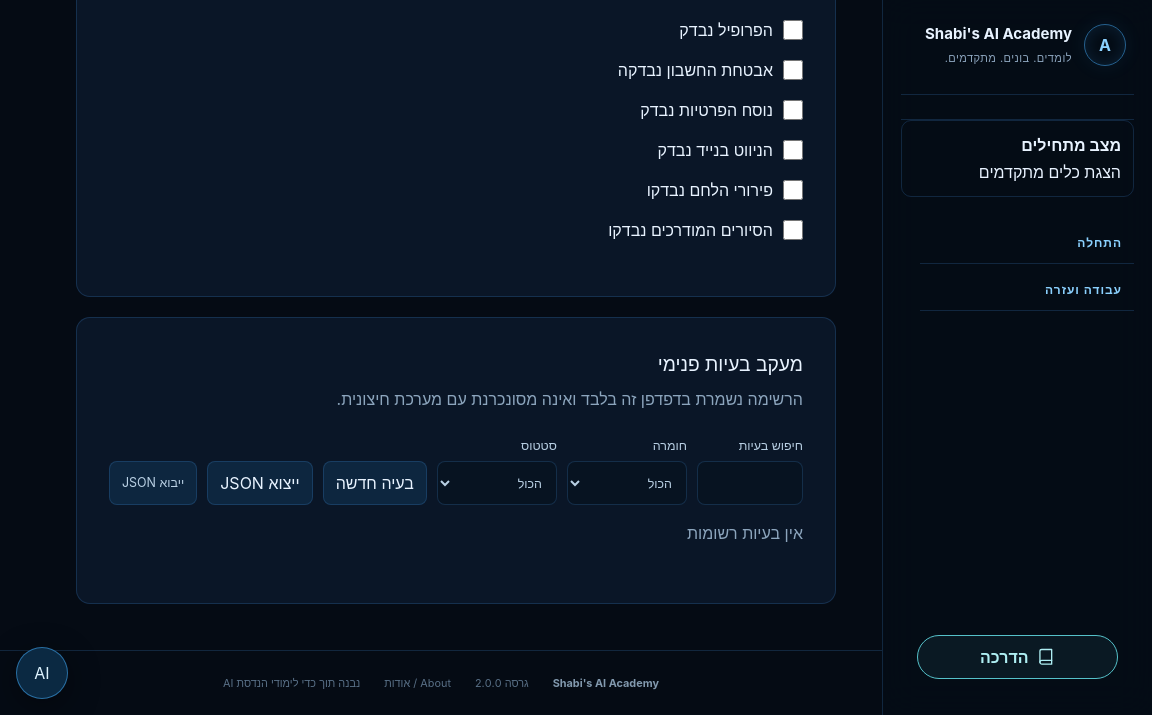
QA Center — internal issue register › requires a title and owner before saving an issue
The width and height of the screenshot is (1152, 715).
(page scrolled)
Step 1. Click the button "בעיה חדשה" → (375, 483), box [323,461,427,505]
(page scrolled)
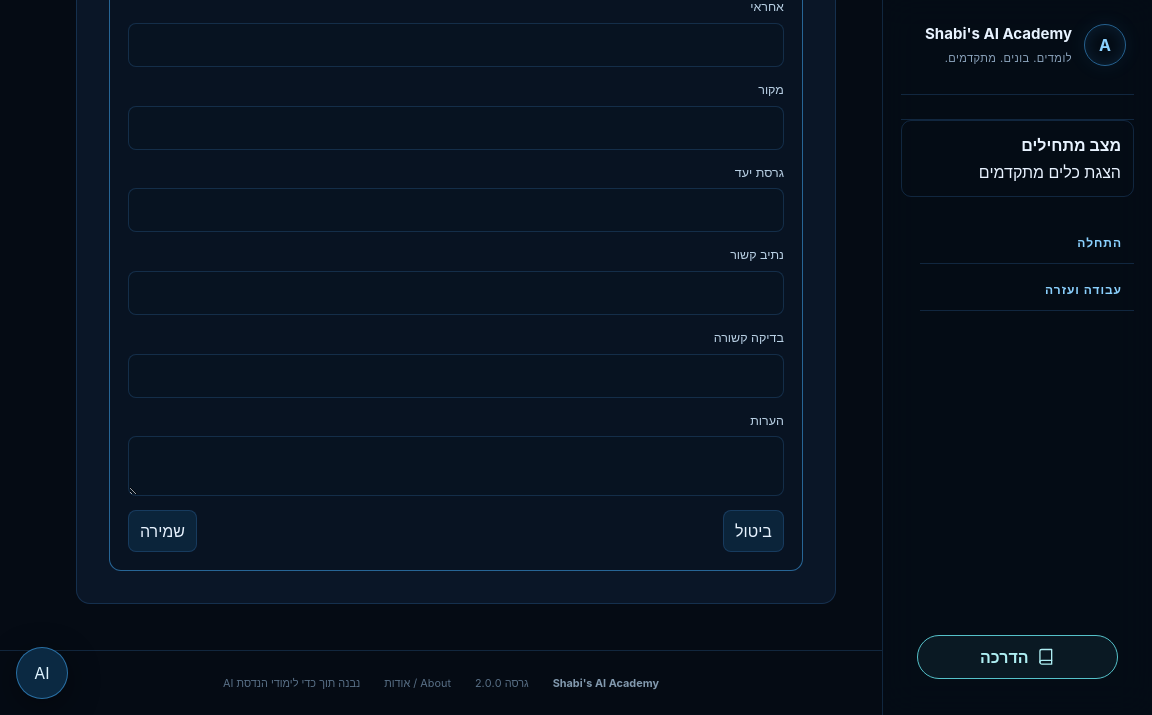
Step 2. Click the button "שמירה" → (162, 531), box [128,510,197,552]
(page scrolled)
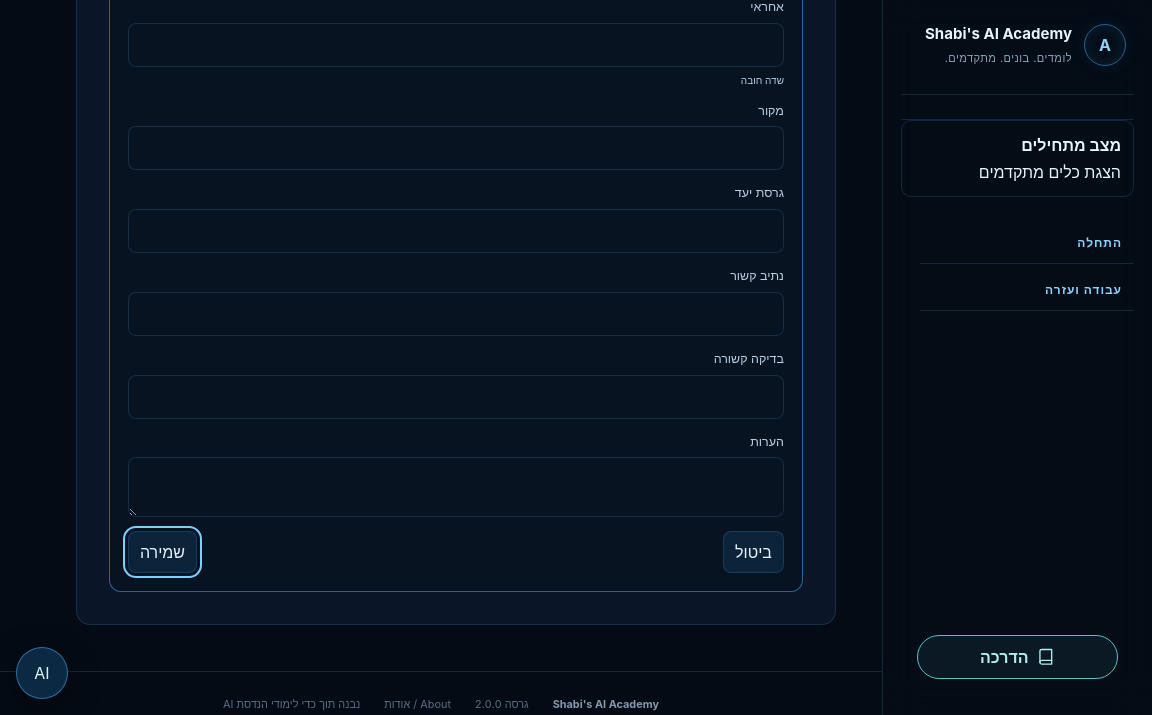
Result: the number of messages is 2
